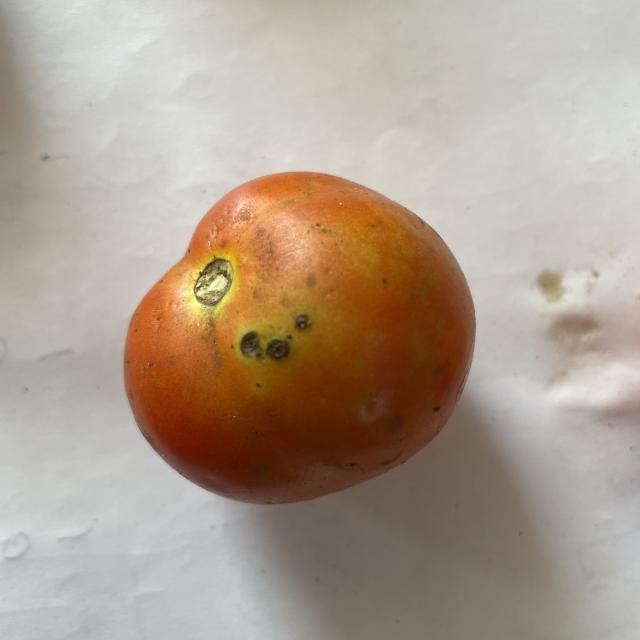fruitworm_bore: (235, 306, 318, 370)
